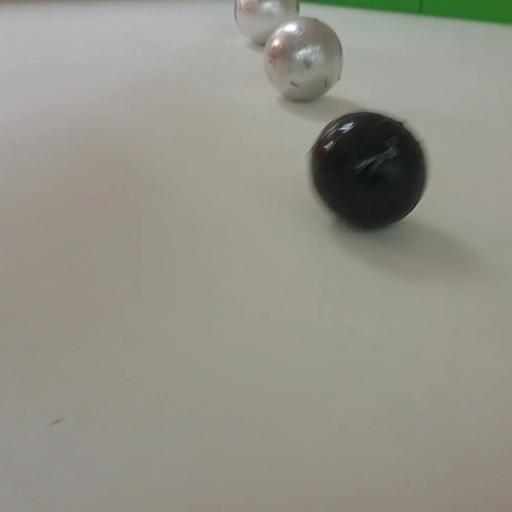alive: (263, 18, 344, 102), (235, 0, 298, 46)
dead: (308, 111, 428, 231)
